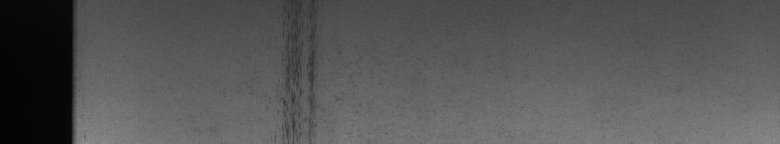hd: (277, 4, 326, 136)
